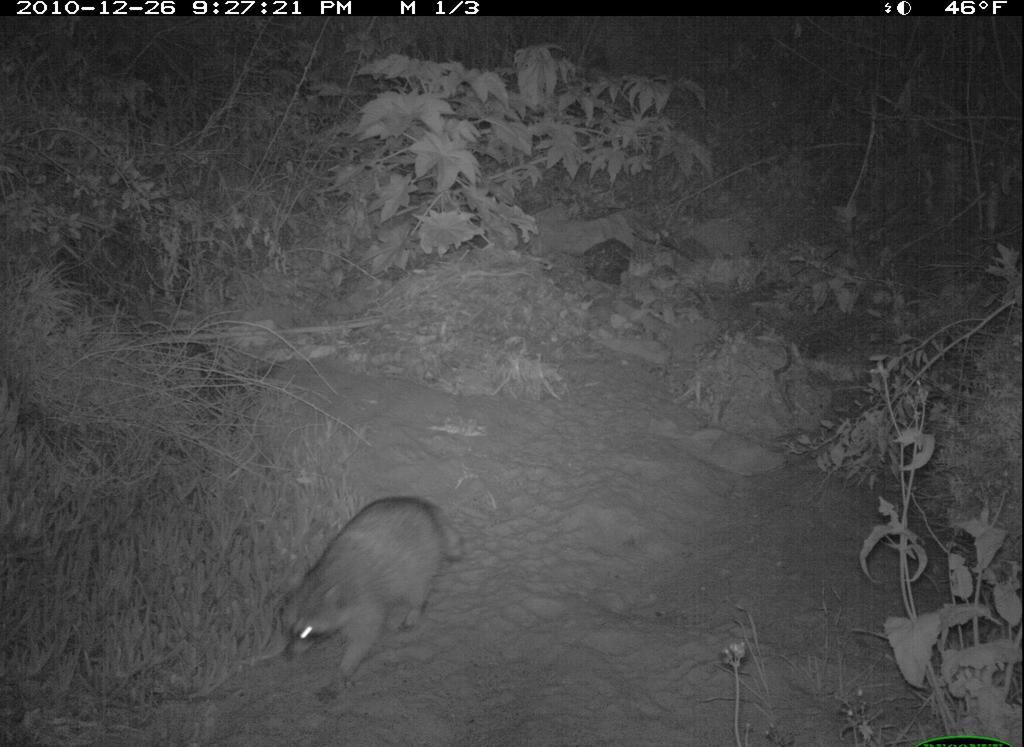raccoon: (274, 488, 469, 708)
